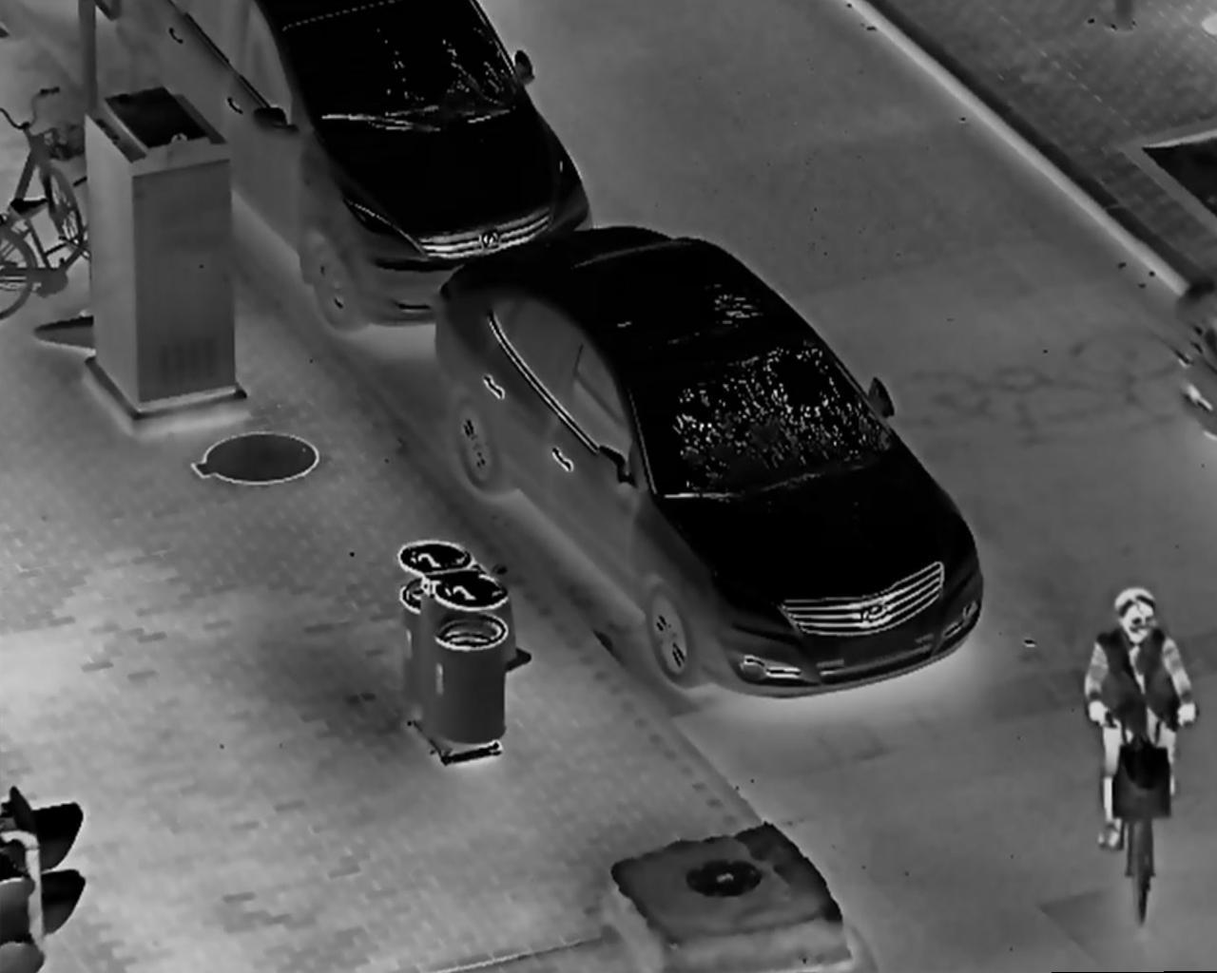person: (1077, 583, 1203, 850)
